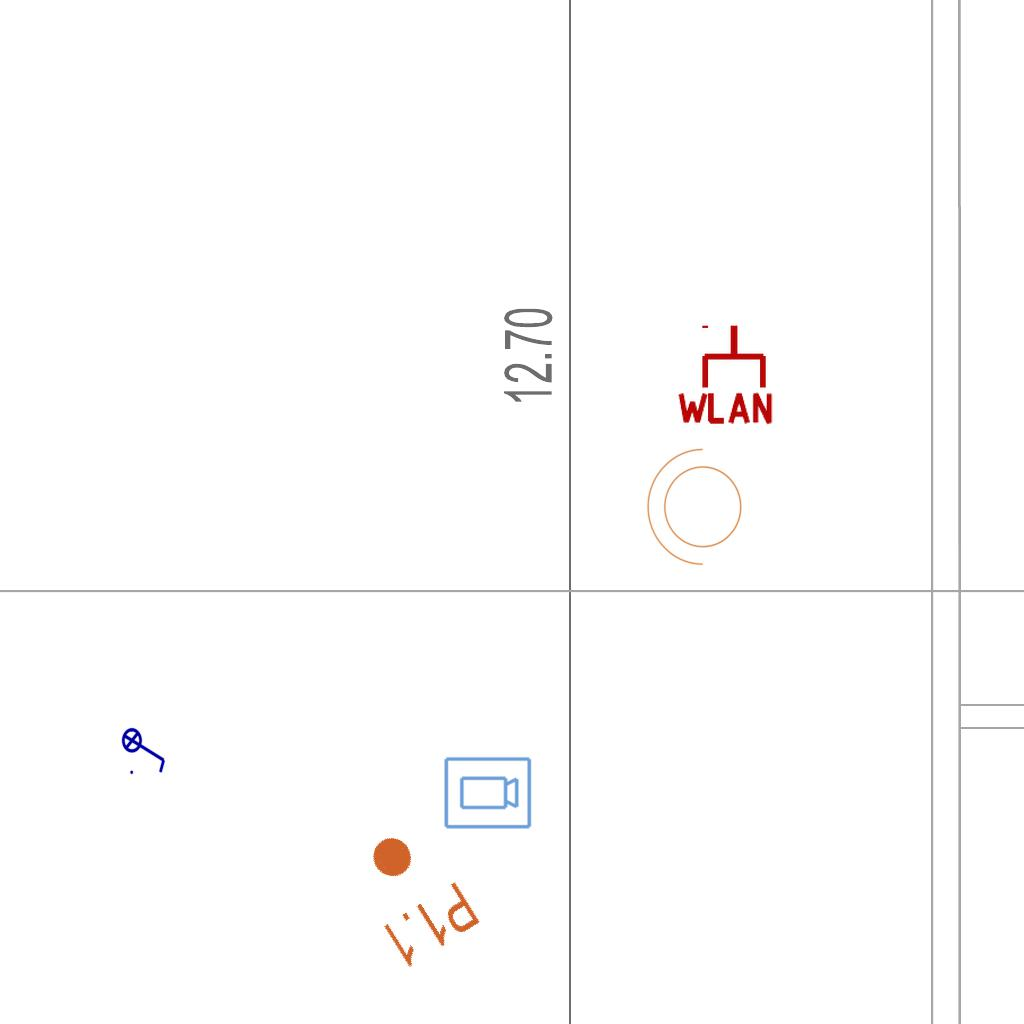Ausschalter_beleuchtet: (121, 721, 169, 777)
Downlight_LED_Einbauleuchten_Flur: (338, 815, 485, 973)
KFO_Kamera_mit_Festobjektiv: (442, 755, 533, 832)
Scheinwerfer_fuer_Alarmbeleuchtung: (642, 444, 754, 576)
WLAN: (673, 321, 777, 426)
